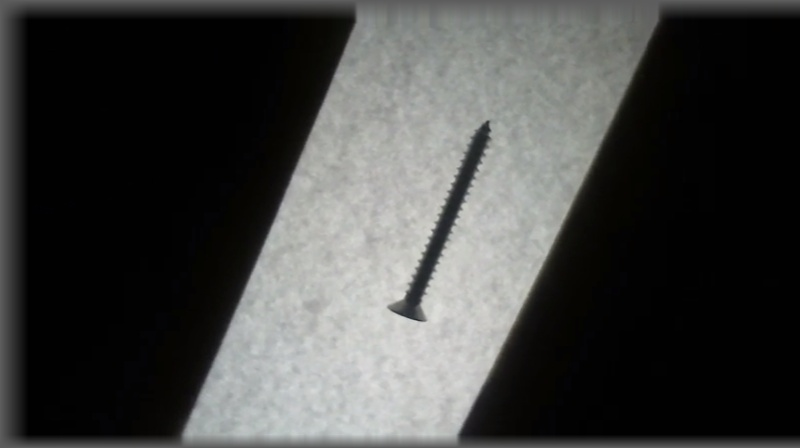S002: (383, 117, 494, 324)
